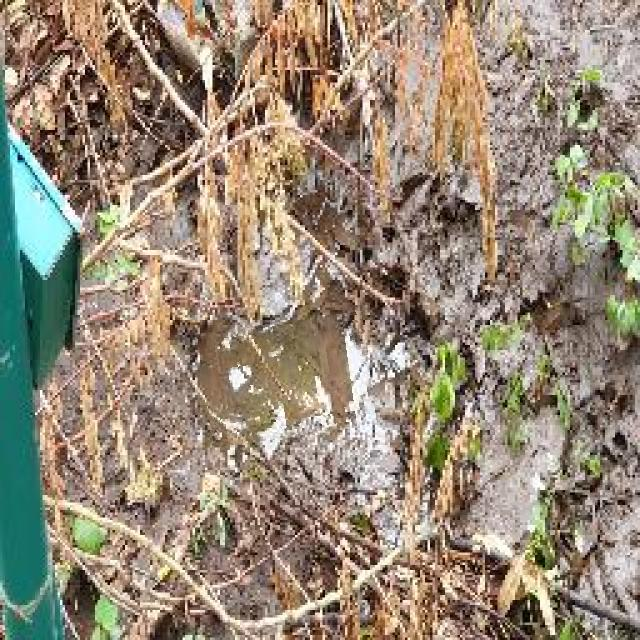puddle: (202, 318, 374, 443)
